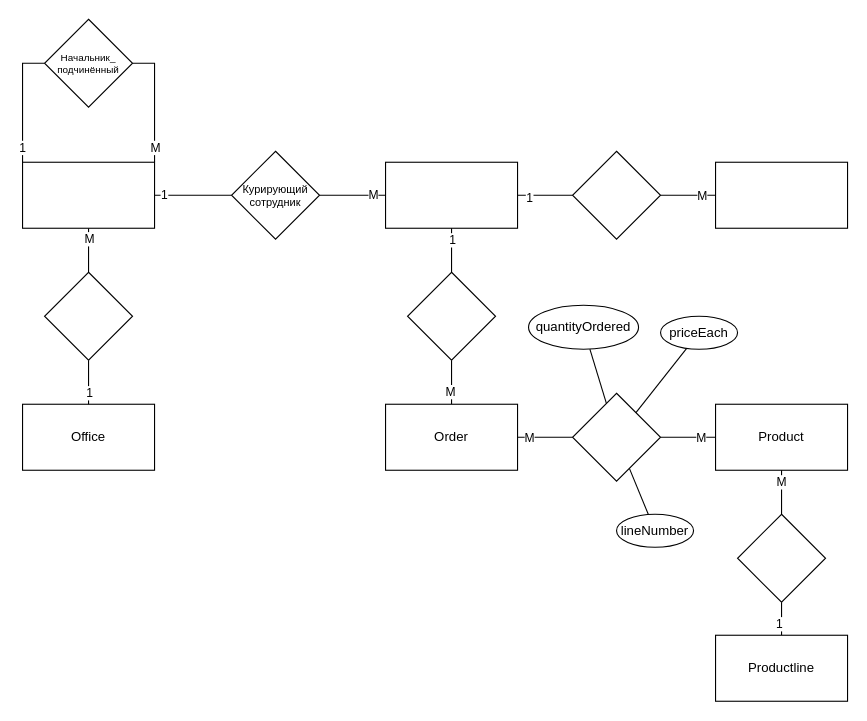
The diagram is 867 pixels wide and 721 high, and some of its shapes have lost their labels. Here are the shapes that lost their labels. From the top down, the centre of each, then its label:
At point (88, 194): "Employee".
At point (451, 194): "Customer".
At point (781, 194): "Payment".
At point (616, 436): "Детали".
